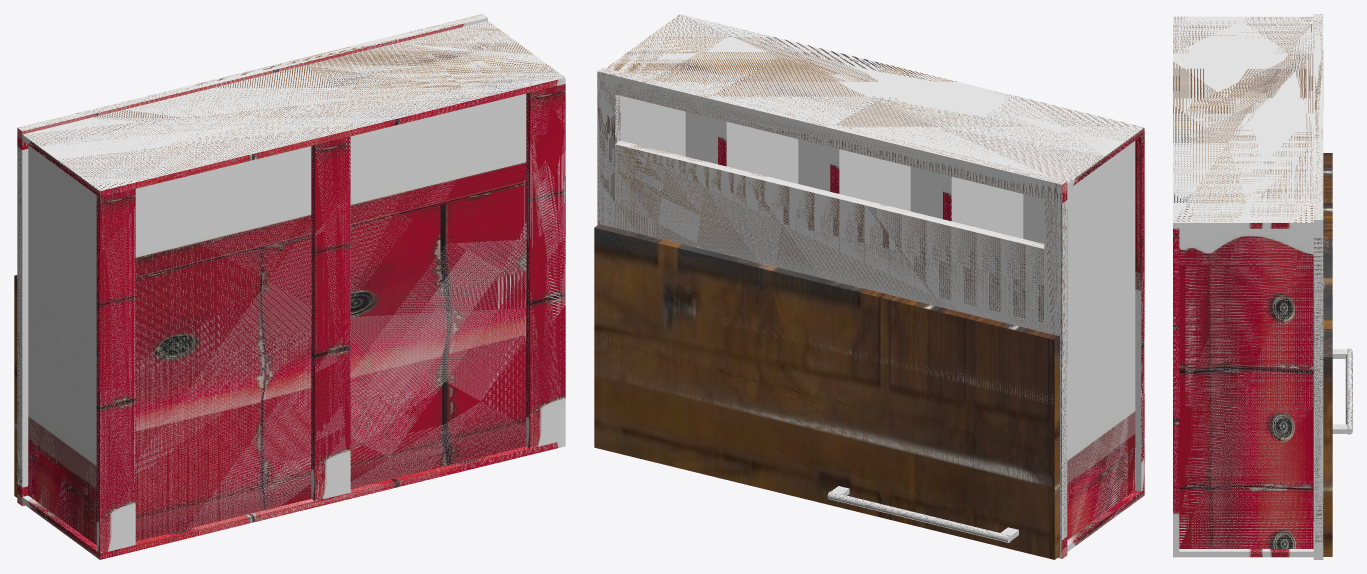
3 renders of one model, left to right at view 1: azimuth 30°, elevation 25°; view 2: azimuth 150°, elevation 25°; view 3: azimuth 270°, elevation 25°, orthographic. The views are drawn at different scales.
Visible parts, largest first — view 1: mesh6_mesh6-geometry, mesh3_mesh3-geometry, mesh8_mesh8-geometry, mesh1_mesh1-geometry, mesh7_mesh7-geometry, mesh9_mesh9-geometry, mesh4_mesh4-geometry, mesh13_mesh13-geometry; view 2: mesh13_mesh13-geometry, mesh11_mesh11-geometry, mesh8_mesh8-geometry, mesh1_mesh1-geometry, mesh9_mesh9-geometry, mesh12_mesh12-geometry, mesh4_mesh4-geometry, mesh5_mesh5-geometry, mesh3_mesh3-geometry, mesh14_mesh14-geometry, mesh7_mesh7-geometry; view 3: mesh2_mesh2-geometry, mesh8_mesh8-geometry, mesh13_mesh13-geometry, mesh4_mesh4-geometry, mesh9_mesh9-geometry, mesh3_mesh3-geometry, mesh7_mesh7-geometry, mesh14_mesh14-geometry.
Part boxes in pixels (<box>): mesh6_mesh6-geometry: <box>135,93,526,541</box>; mesh3_mesh3-geometry: <box>96,84,565,553</box>; mesh8_mesh8-geometry: <box>22,21,565,197</box>; mesh1_mesh1-geometry: <box>28,145,96,544</box>; mesh7_mesh7-geometry: <box>22,440,565,559</box>; mesh9_mesh9-geometry: <box>17,14,487,149</box>; mesh4_mesh4-geometry: <box>17,146,28,487</box>; mesh13_mesh13-geometry: <box>14,275,17,497</box>; mesh13_mesh13-geometry: <box>594,224,1059,559</box>; mesh11_mesh11-geometry: <box>615,140,1044,332</box>; mesh8_mesh8-geometry: <box>606,14,1144,189</box>; mesh1_mesh1-geometry: <box>620,95,1135,539</box>; mesh9_mesh9-geometry: <box>597,67,1067,203</box>; mesh12_mesh12-geometry: <box>718,119,1023,238</box>; mesh4_mesh4-geometry: <box>597,90,1067,540</box>; mesh5_mesh5-geometry: <box>685,112,1044,243</box>; mesh3_mesh3-geometry: <box>1135,134,1144,491</box>; mesh14_mesh14-geometry: <box>827,491,1011,542</box>; mesh7_mesh7-geometry: <box>1067,489,1144,551</box>; mesh2_mesh2-geometry: <box>1179,228,1313,548</box>; mesh8_mesh8-geometry: <box>1173,16,1313,228</box>; mesh13_mesh13-geometry: <box>1323,153,1332,556</box>; mesh4_mesh4-geometry: <box>1313,237,1323,542</box>; mesh9_mesh9-geometry: <box>1313,14,1323,236</box>; mesh3_mesh3-geometry: <box>1173,228,1179,551</box>; mesh7_mesh7-geometry: <box>1173,549,1313,557</box>; mesh14_mesh14-geometry: <box>1345,348,1352,434</box>.
Size of the model in its own units: 0.7608 by 0.5852 by 0.2804.
